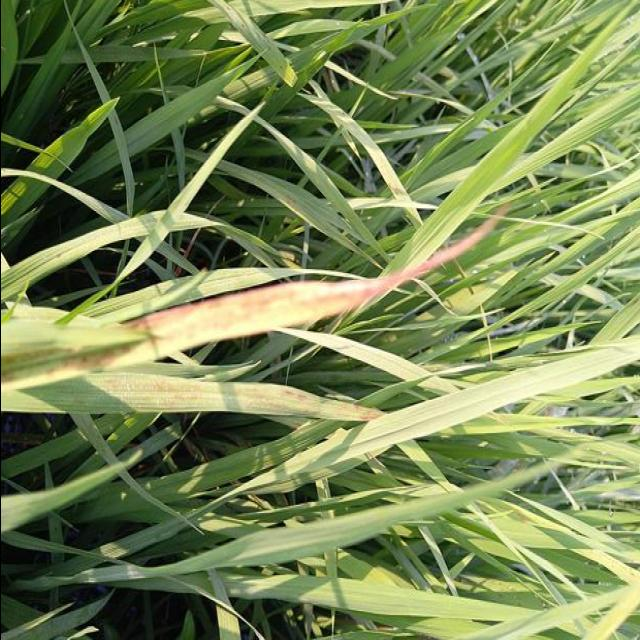Leaf Blight: (0, 218, 499, 391)
Leaf Streak: (216, 381, 382, 421), (98, 374, 215, 394)
